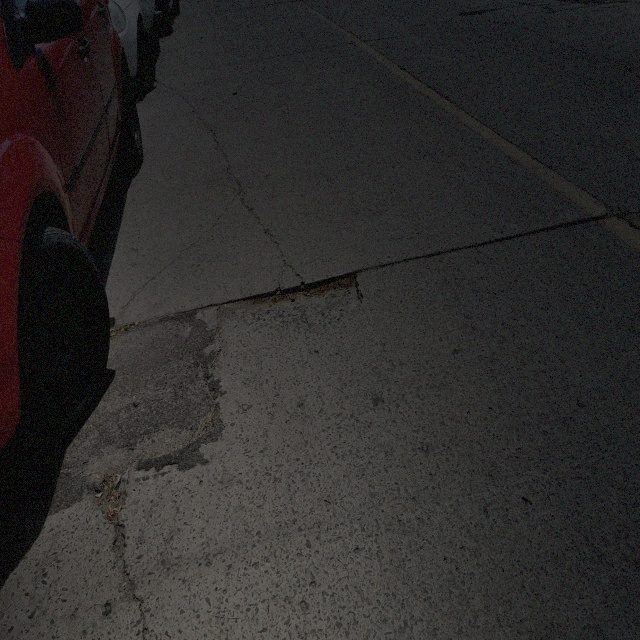pothole: (218, 264, 364, 328), (97, 467, 131, 563)
